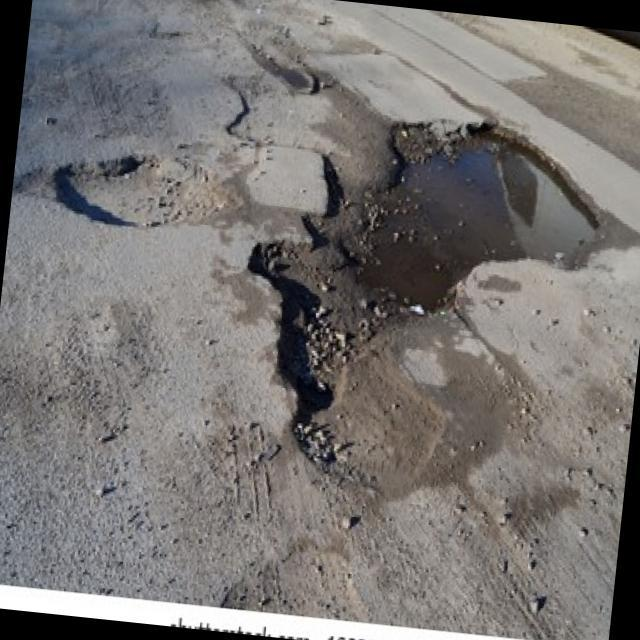Pothole: (225, 97, 612, 511), (48, 144, 246, 240), (12, 160, 56, 197)
